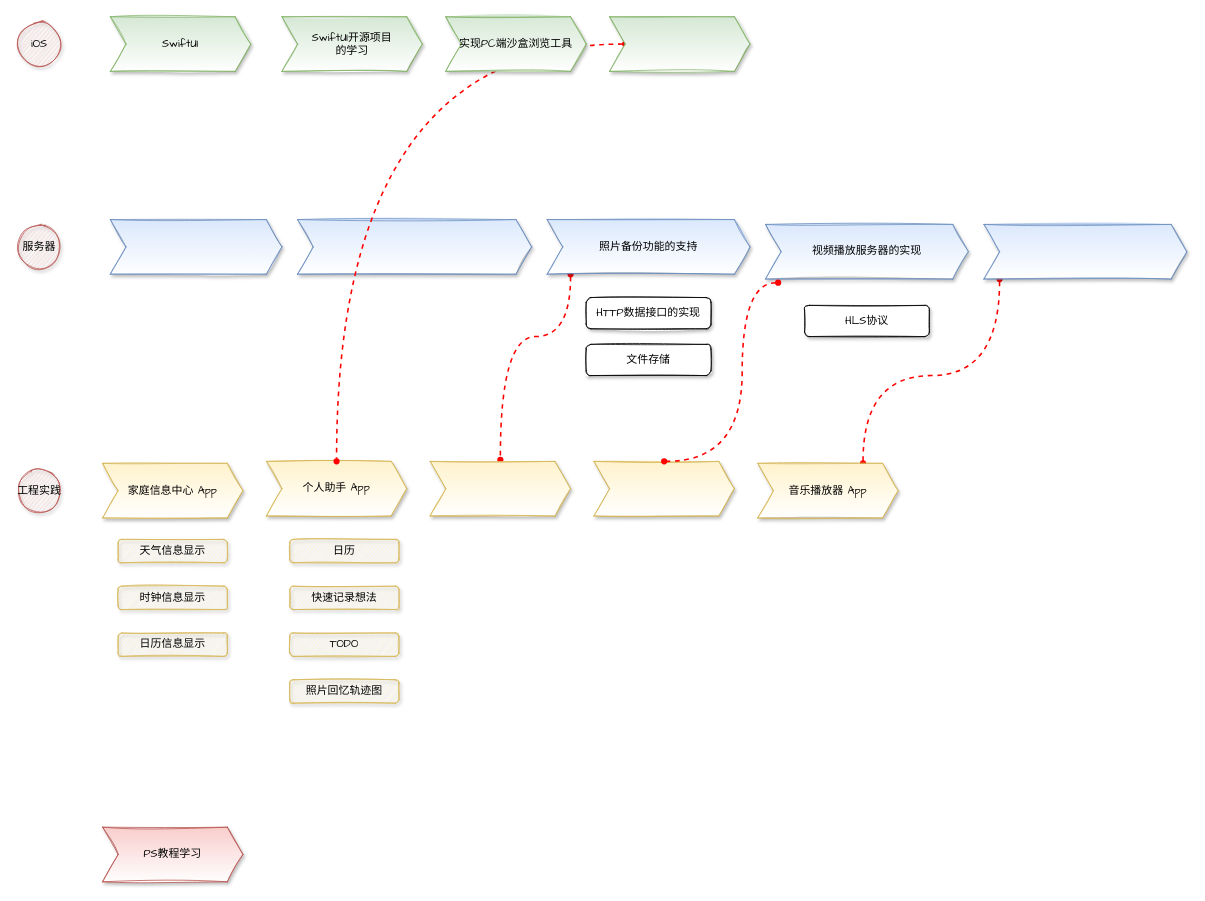
The diagram is 1205 pixels wide and 901 high, and some of its shapes have lost their labels. Each missing label, with the centre of its shape:
"PC 端个人助手 App" belongs at pixel 680 45.
"《鸟哥的Linux私房菜 · 服务器架设篇》" belongs at pixel 415 248.
"《鸟哥的Linux私房菜》" belongs at pixel 196 248.
"照片同步助手 App" belongs at pixel 500 489.
"视频播放器 App" belongs at pixel 664 489.
"音乐播放服务器的实现" belongs at pixel 1085 252.
